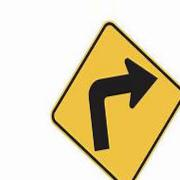right: (52, 21, 180, 180)
